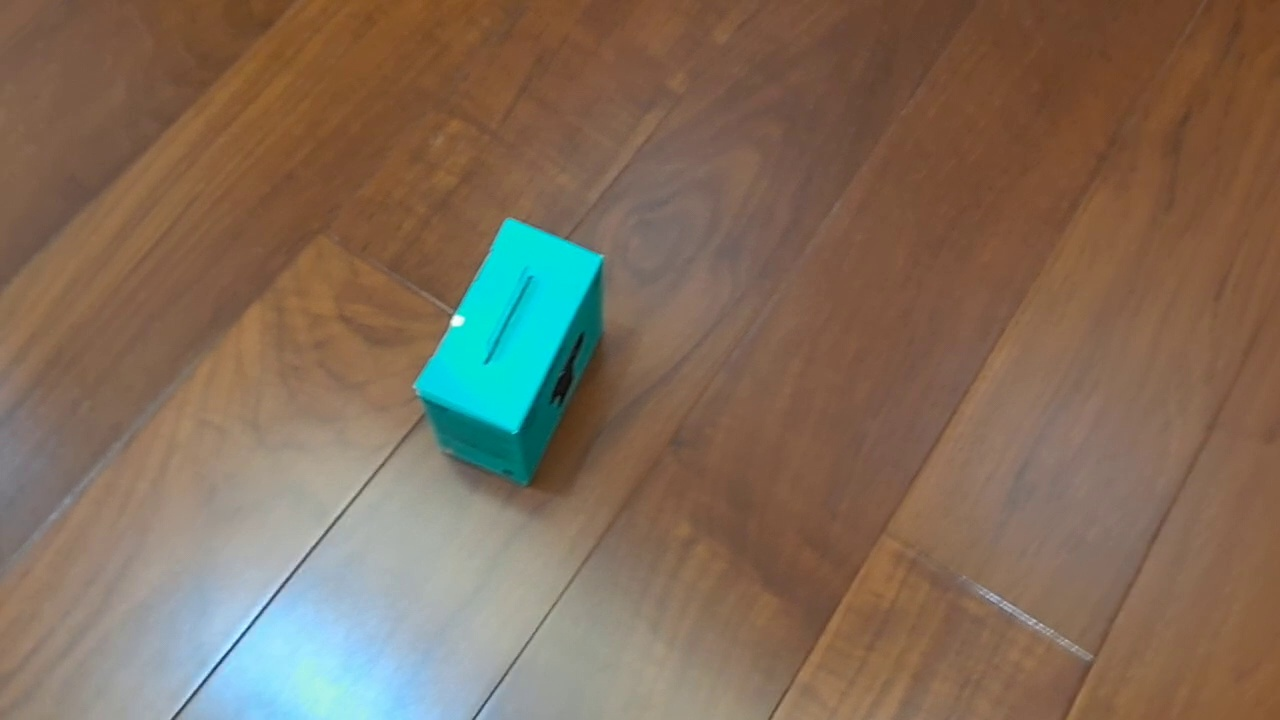webcam: (411, 214, 607, 488)
